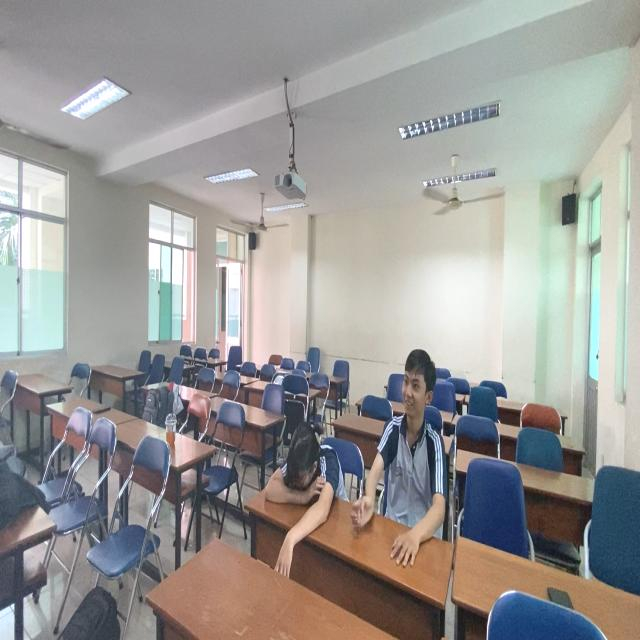sleep: (245, 420, 350, 551)
